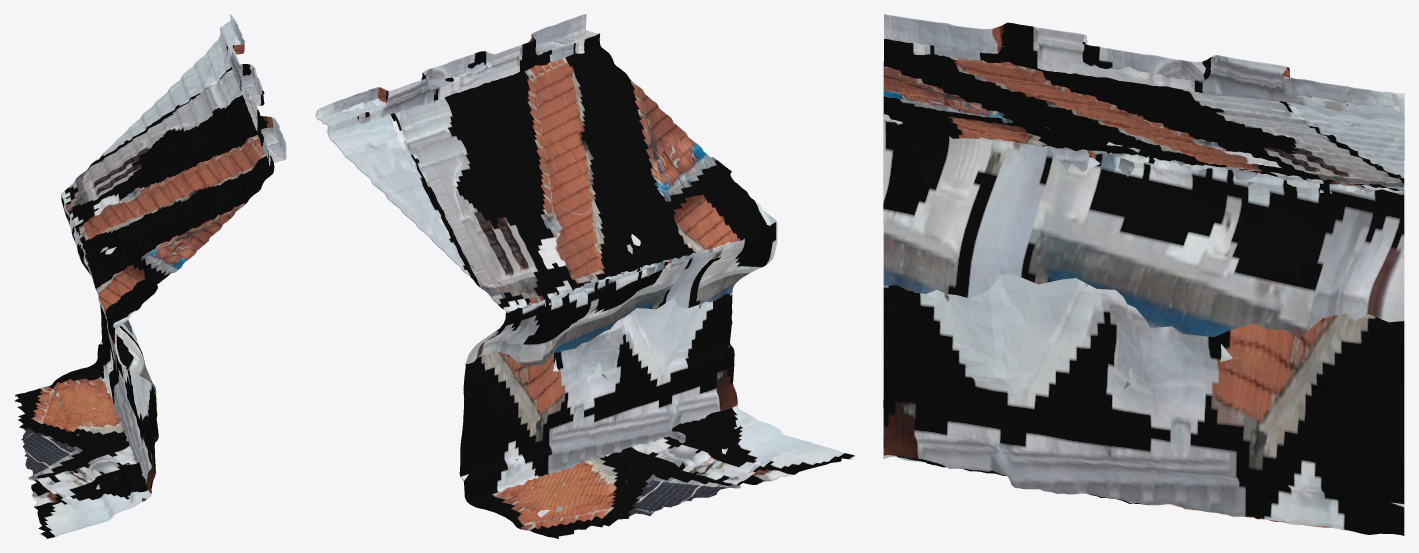
The picture shows the model from 3 angles, left to right: view 1: azimuth 30°, elevation 25°; view 2: azimuth 150°, elevation 25°; view 3: azimuth 270°, elevation 25°; orthographic projection. The views are drawn at different scales.
Visible parts, largest first — view 1: node_62; view 2: node_62; view 3: node_62.
Part boxes in pixels (left/top/right/bottom): node_62: left=14, top=14, right=286, bottom=538; node_62: left=315, top=14, right=854, bottom=538; node_62: left=883, top=14, right=1404, bottom=535.
Size of the model in its own units: 7.07 by 6.78 by 5.39.
1 material, 1 textured.
